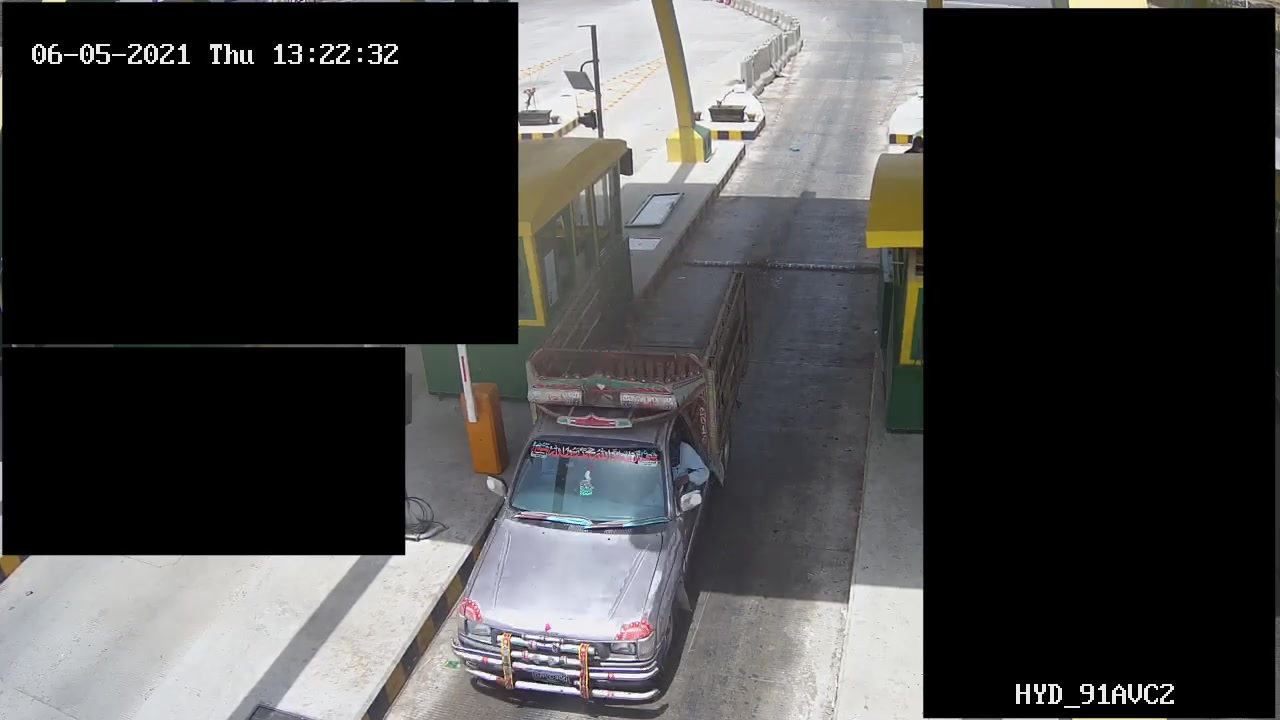F1: (451, 246, 763, 707)
